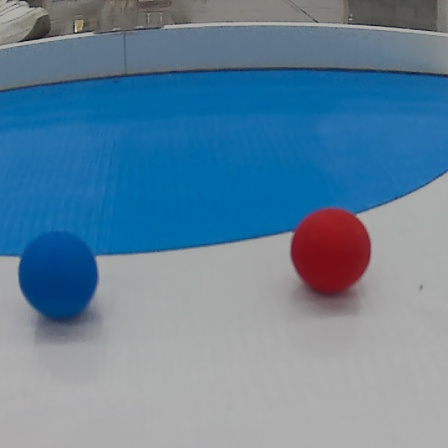blue: (12, 230, 100, 321)
red: (289, 202, 372, 297)
